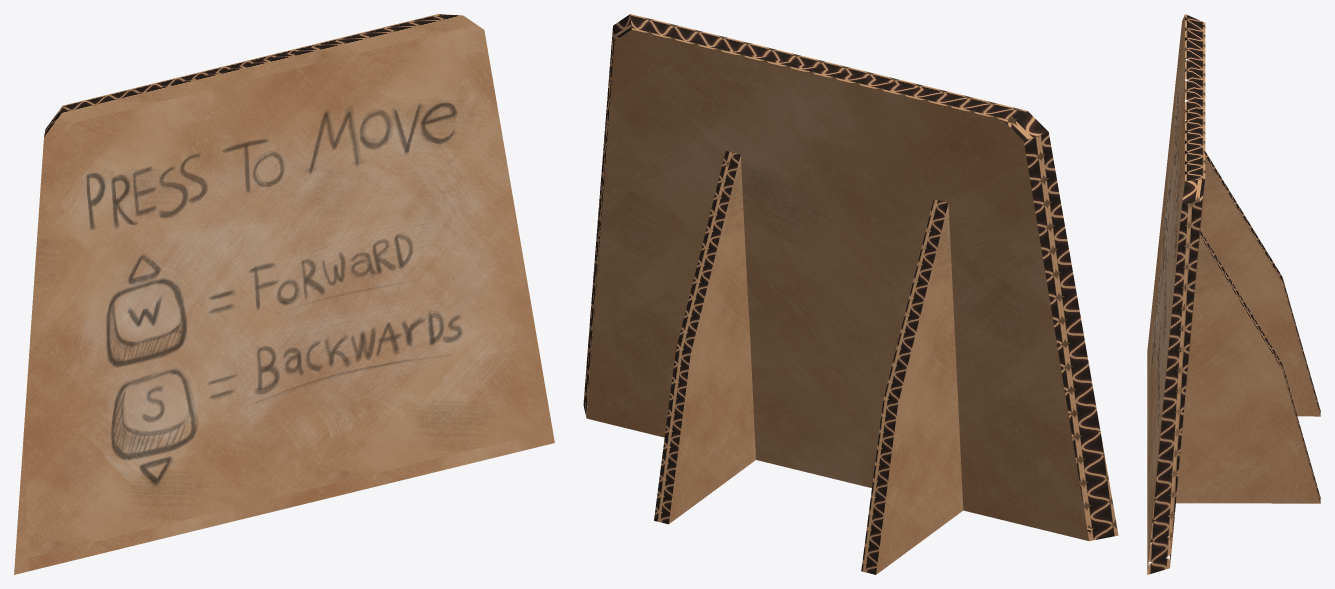
File: Carboard Cut Out Movement Tutorial.fbx
3 renders of one model, left to right at view 1: azimuth 30°, elevation 25°; view 2: azimuth 150°, elevation 25°; view 3: azimuth 270°, elevation 25°, orthographic. The views are drawn at different scales.
Parts seen in each view (by area): view 1: Cardboard Cut-Out.002; view 2: Cardboard Cut-Out.002; view 3: Cardboard Cut-Out.002.
Part boxes in pixels (x1=…): Cardboard Cut-Out.002: x1=14, y1=14, x2=554, y2=574; Cardboard Cut-Out.002: x1=583, y1=14, x2=1118, y2=574; Cardboard Cut-Out.002: x1=1147, y1=14, x2=1320, y2=574.
Size of the model in its own units: 134 by 102 by 43.65.
